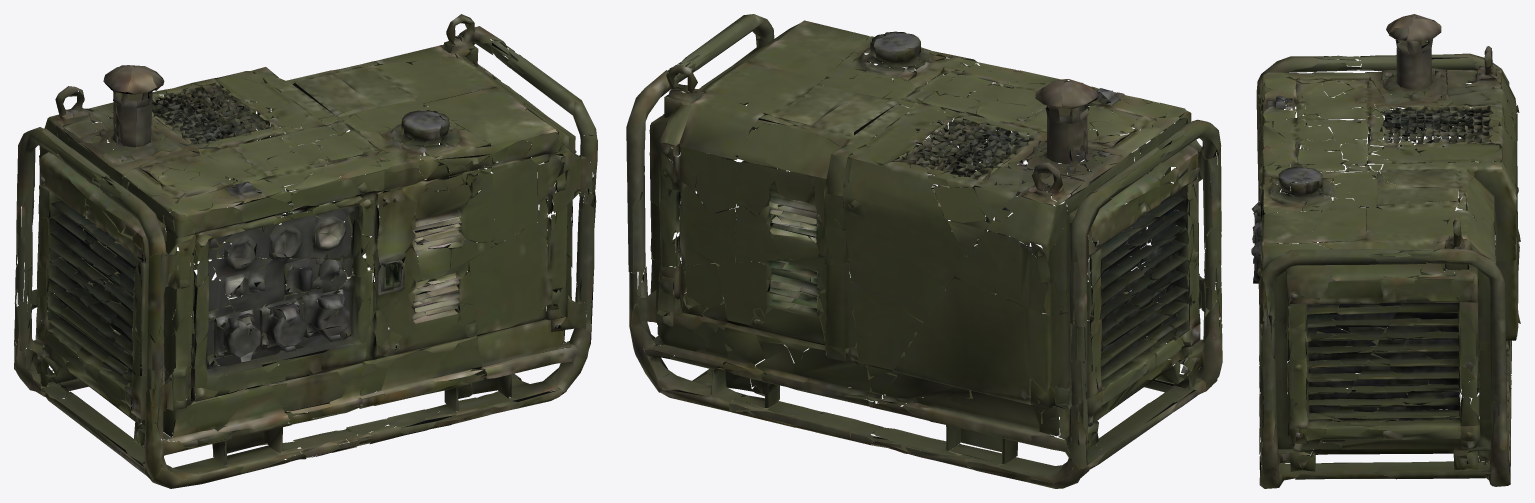
The model's file is prop_generator.glb.
The picture shows the model from 3 angles, left to right: view 1: azimuth 30°, elevation 25°; view 2: azimuth 150°, elevation 25°; view 3: azimuth 270°, elevation 25°; orthographic projection. The views are drawn at different scales.
Visible parts, largest first — view 1: prop_generator; view 2: prop_generator; view 3: prop_generator.
Part boxes in pixels (x1=…): prop_generator: x1=14, y1=14, x2=597, y2=488; prop_generator: x1=626, y1=14, x2=1222, y2=488; prop_generator: x1=1251, y1=14, x2=1520, y2=488.
Bounding box in the file's own units: 1.2 × 0.9015 × 0.6844.
1 material, 1 textured.
